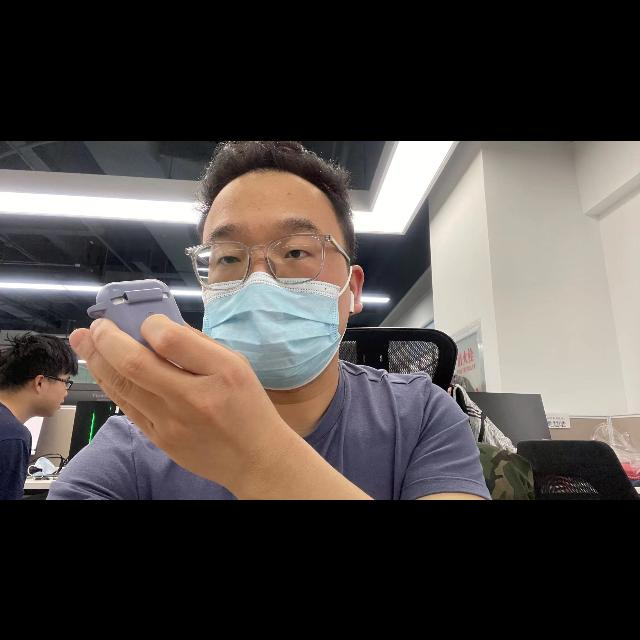airpods: (87, 279, 187, 352)
